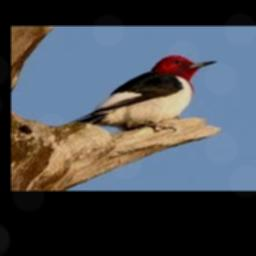Woodpecker: (76, 55, 216, 128)
